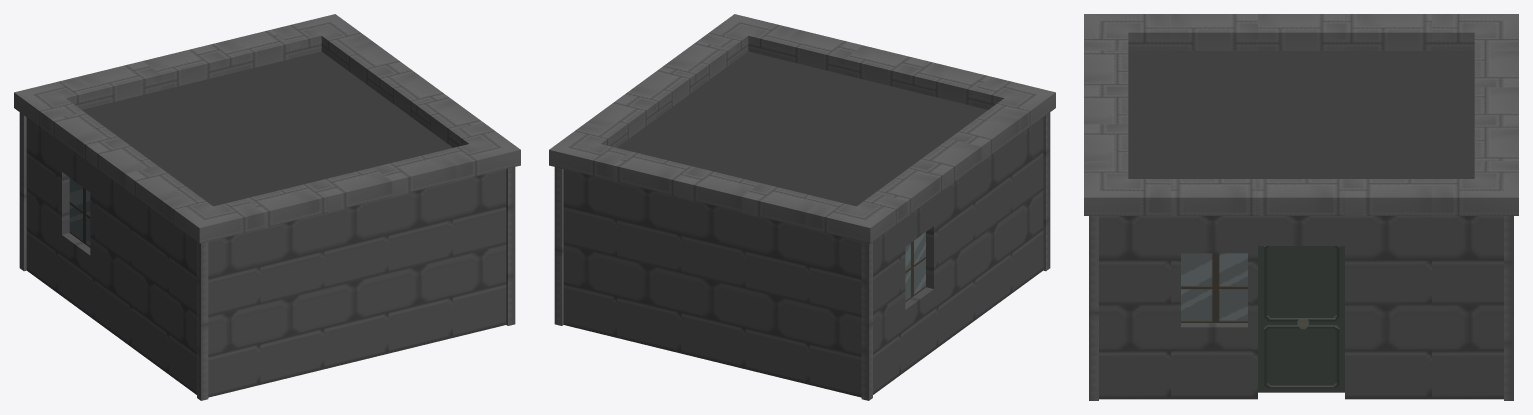
The model's file is SM_Building_B_01.fbx.
3 renders of one model, left to right at view 1: azimuth 30°, elevation 25°; view 2: azimuth 150°, elevation 25°; view 3: azimuth 270°, elevation 25°, orthographic. The views are drawn at different scales.
Parts seen in each view (by area): view 1: SM_Building_B_01; view 2: SM_Building_B_01; view 3: SM_Building_B_01.
Part boxes in pixels (bbox=[...]): SM_Building_B_01: bbox=[14, 14, 520, 400]; SM_Building_B_01: bbox=[549, 14, 1055, 400]; SM_Building_B_01: bbox=[1084, 14, 1518, 400].
Size of the model in its own units: 600 by 313 by 600.
